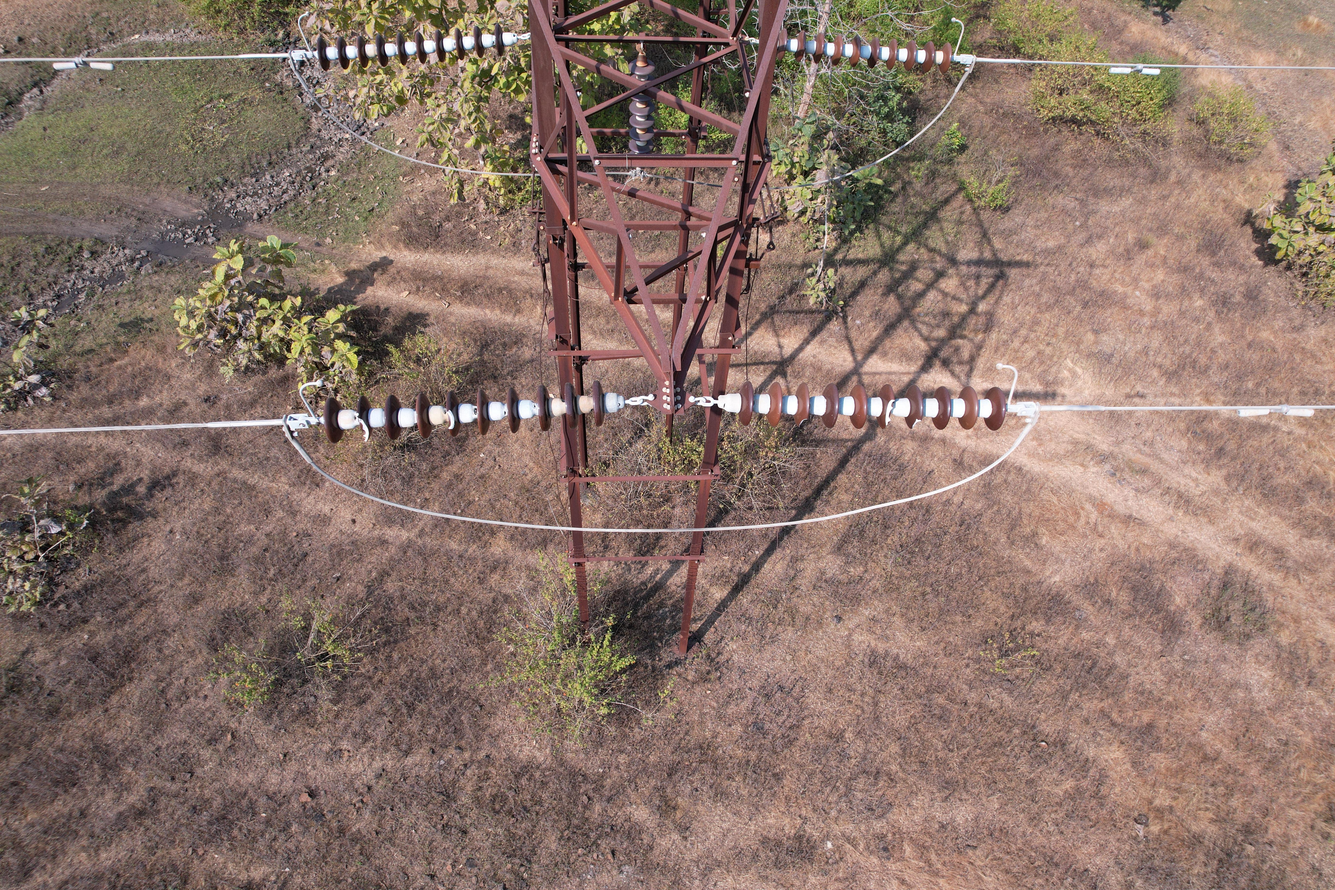broken_insulator: (903, 384, 925, 430), (877, 384, 896, 430), (355, 394, 372, 443), (794, 383, 812, 429), (445, 391, 460, 437)
